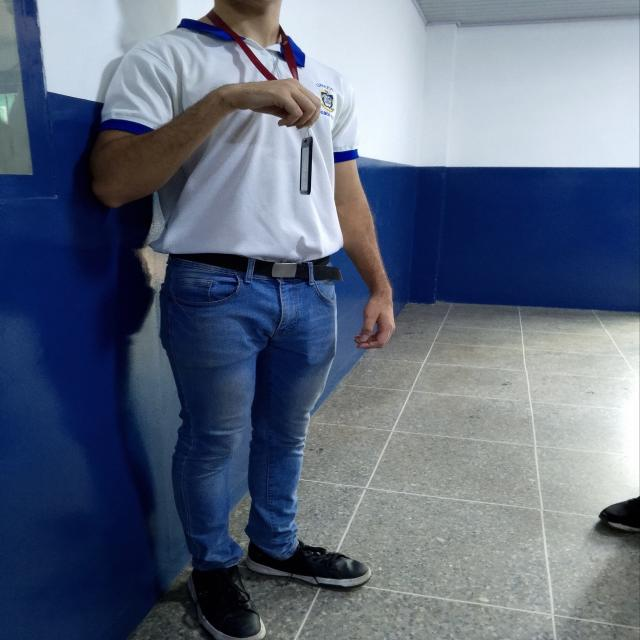carnet: (299, 136, 313, 195)
uniforme_superior: (100, 18, 360, 263)
